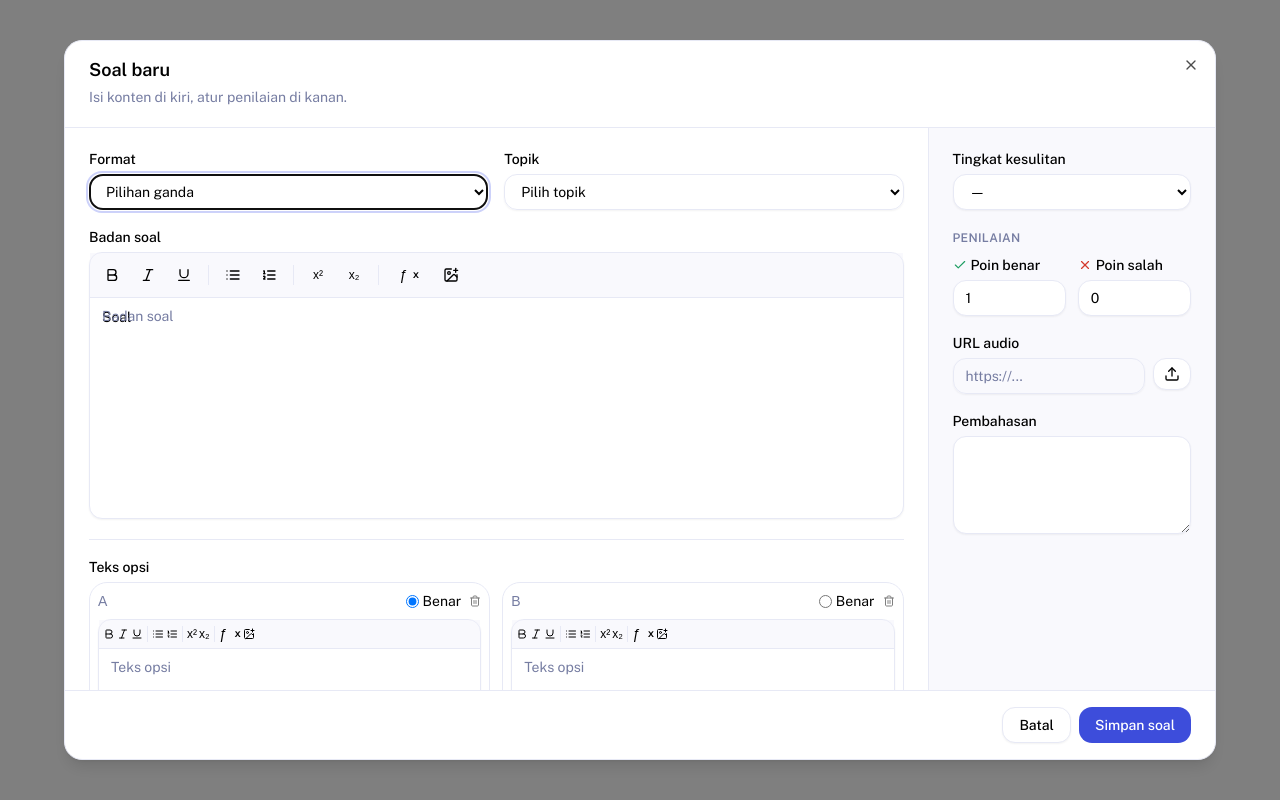
Scenario: QuestionEditor › short validation: empty correct_answer blocks submit
This screenshot has width=1280, height=800.
Clear the field named "badan soal": (117, 317) [102, 309, 131, 325]
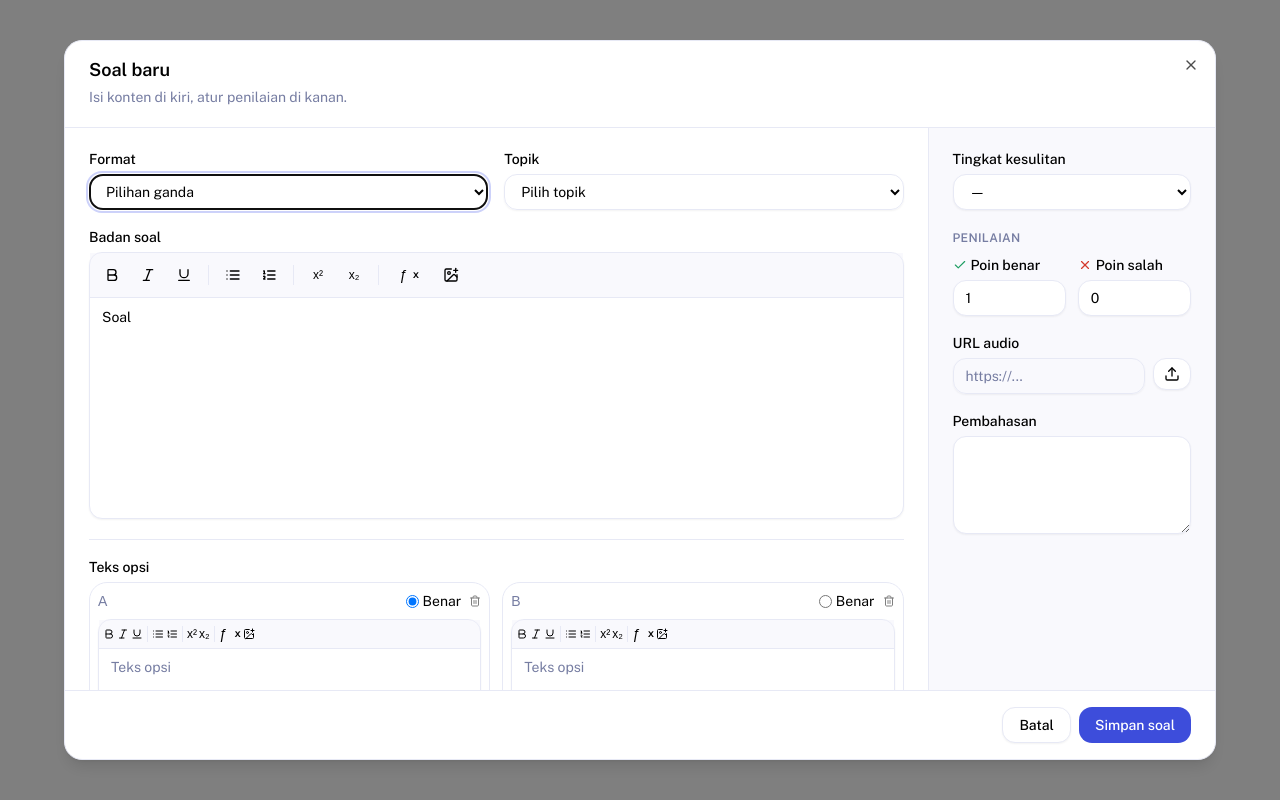
Select "Aljabar" in the dropdown labelled "Topik": (704, 192) [504, 174, 904, 210]
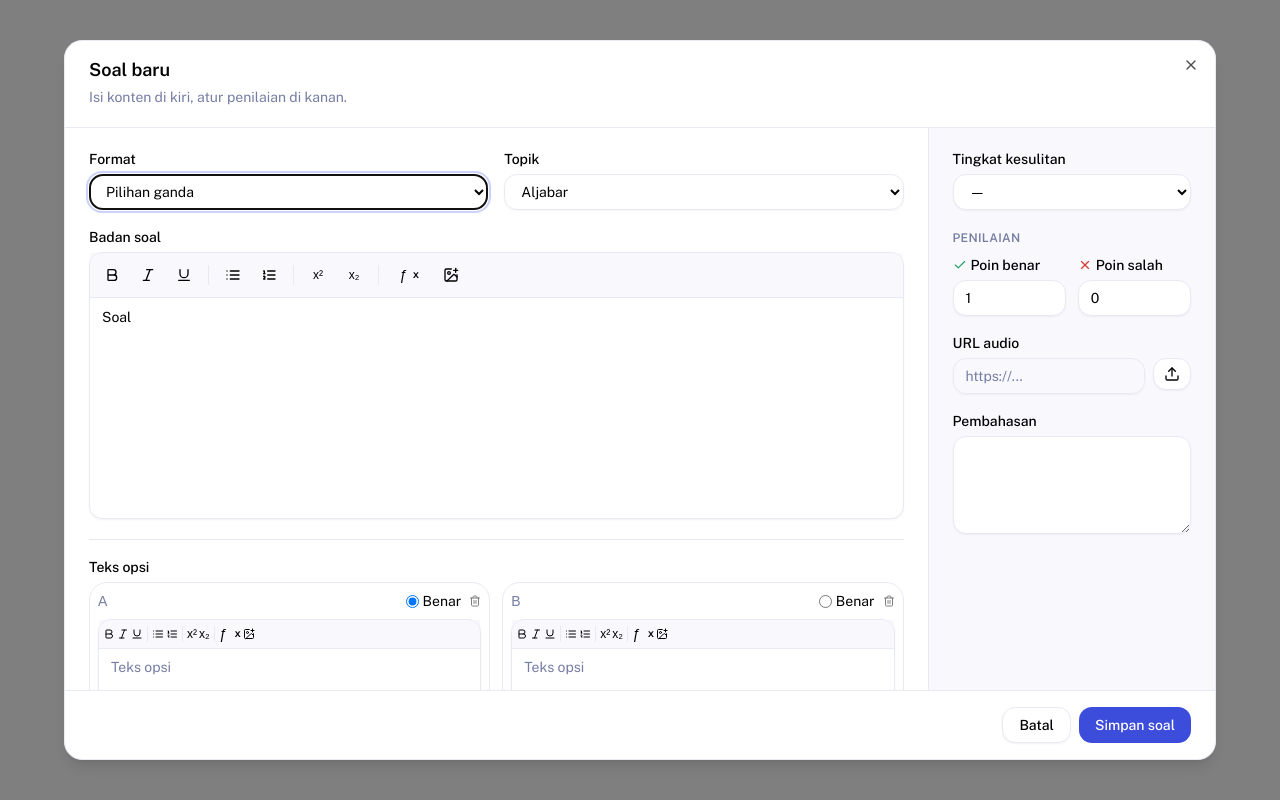
Select "Jawaban singkat" in the dropdown labelled "Format": (289, 192) [89, 174, 488, 210]
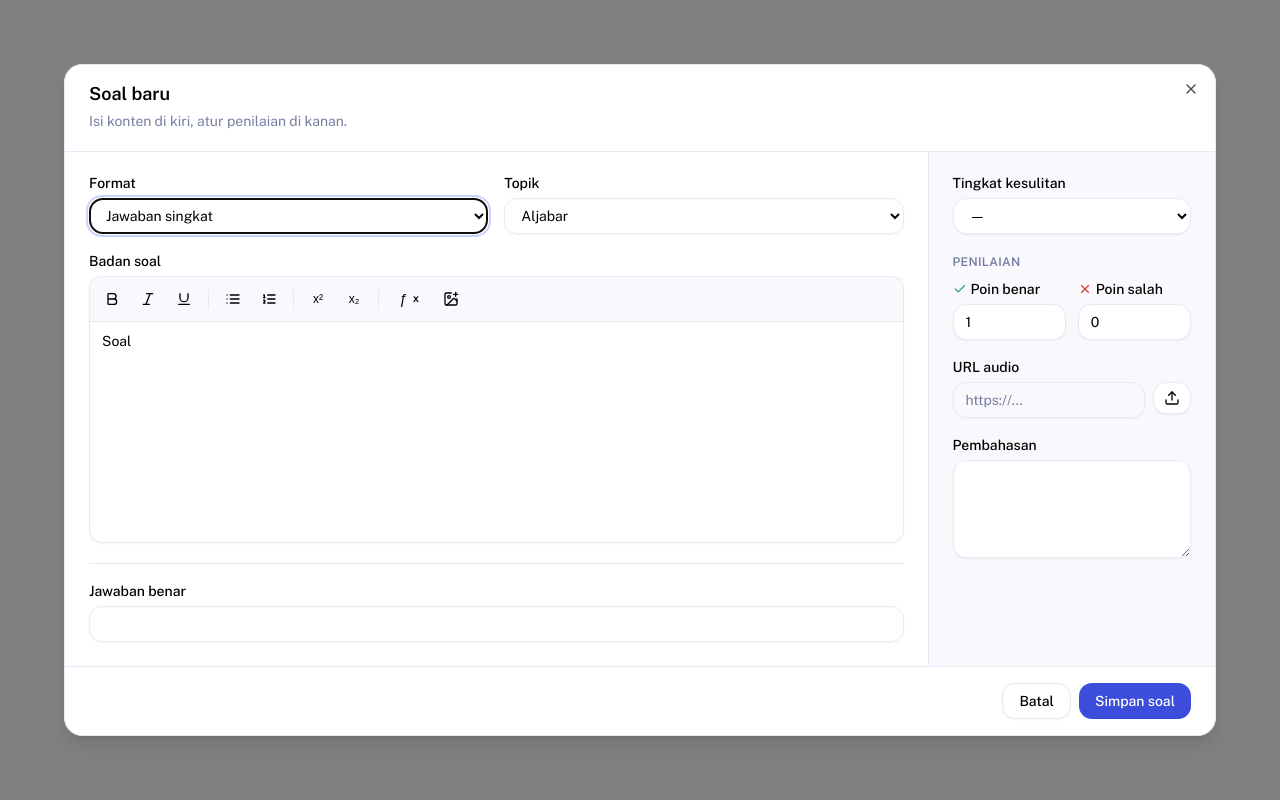
Click the button "Simpan soal": (1135, 701) [1079, 683, 1191, 719]
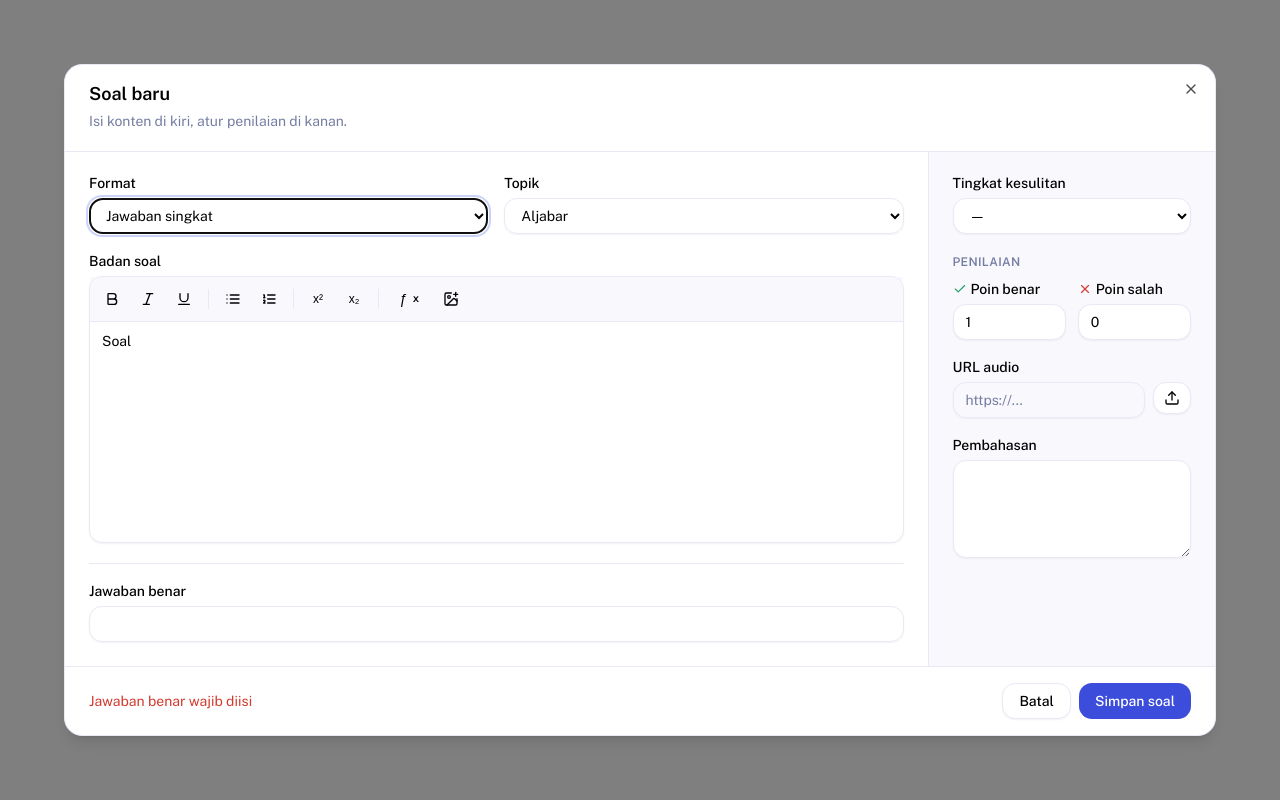
Check: the text "Jawaban benar wajib diisi" is shown, box [89, 691, 252, 711]
